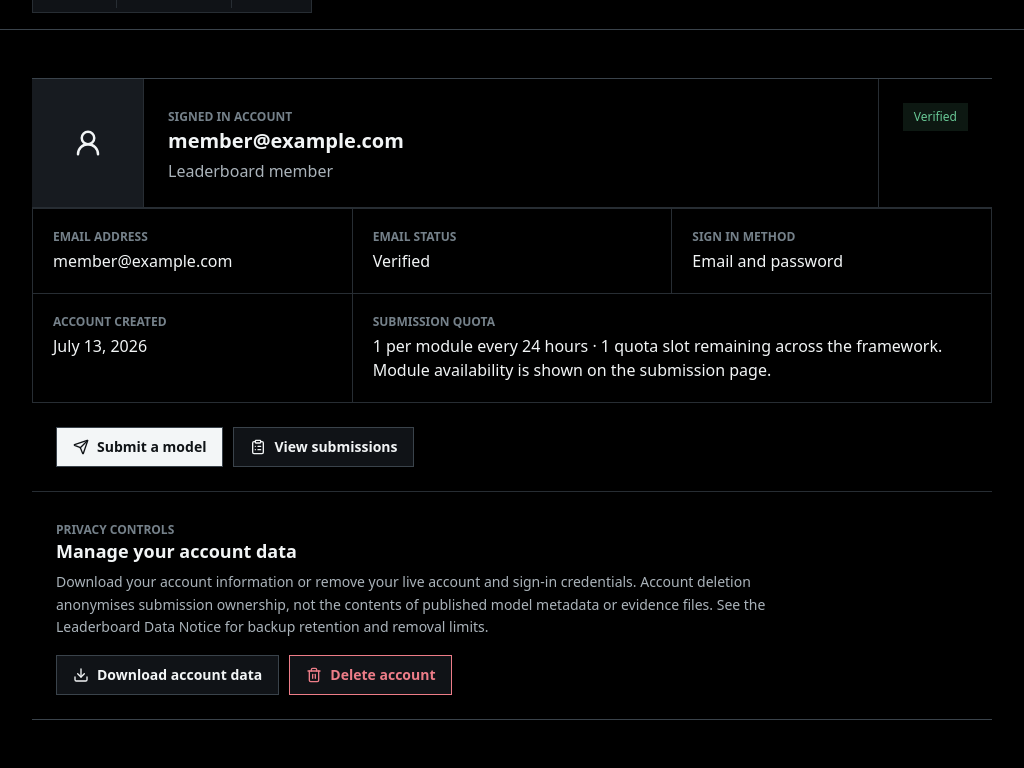
profile quota summary › downloads the signed-in user's account data
(page scrolled)
Click the button "Download account data". click: (168,675)
box: [56,655,279,695]
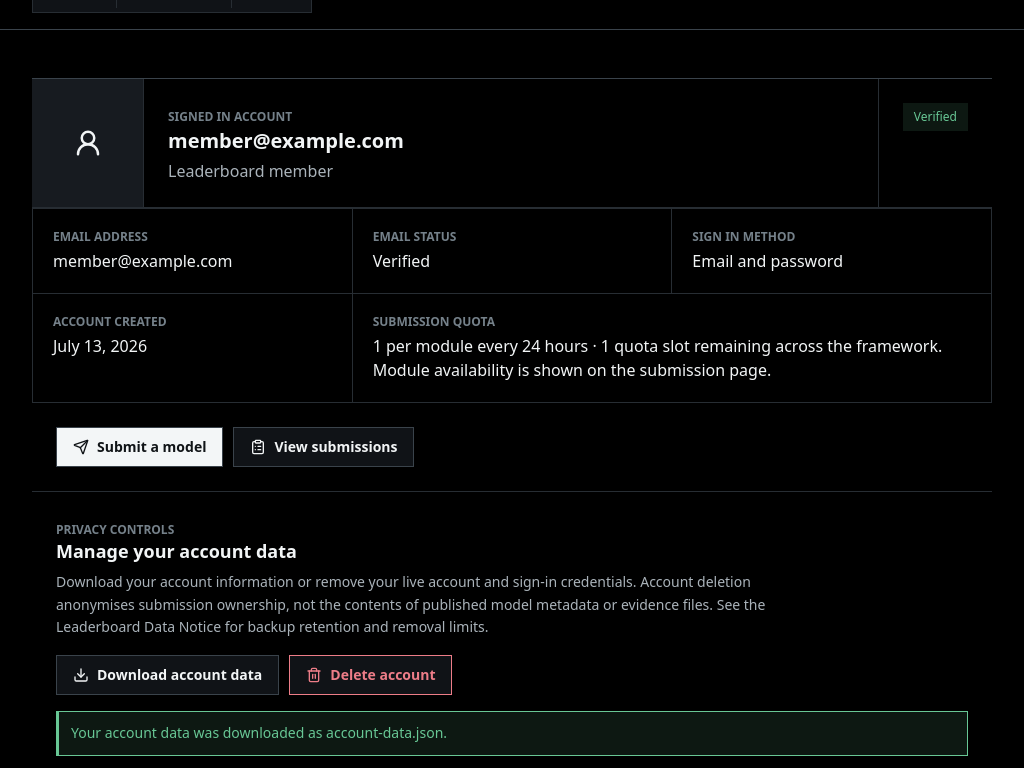
Check: the message reads "Your account data was downloaded as account-data.json.", box [71,723,447,742]
